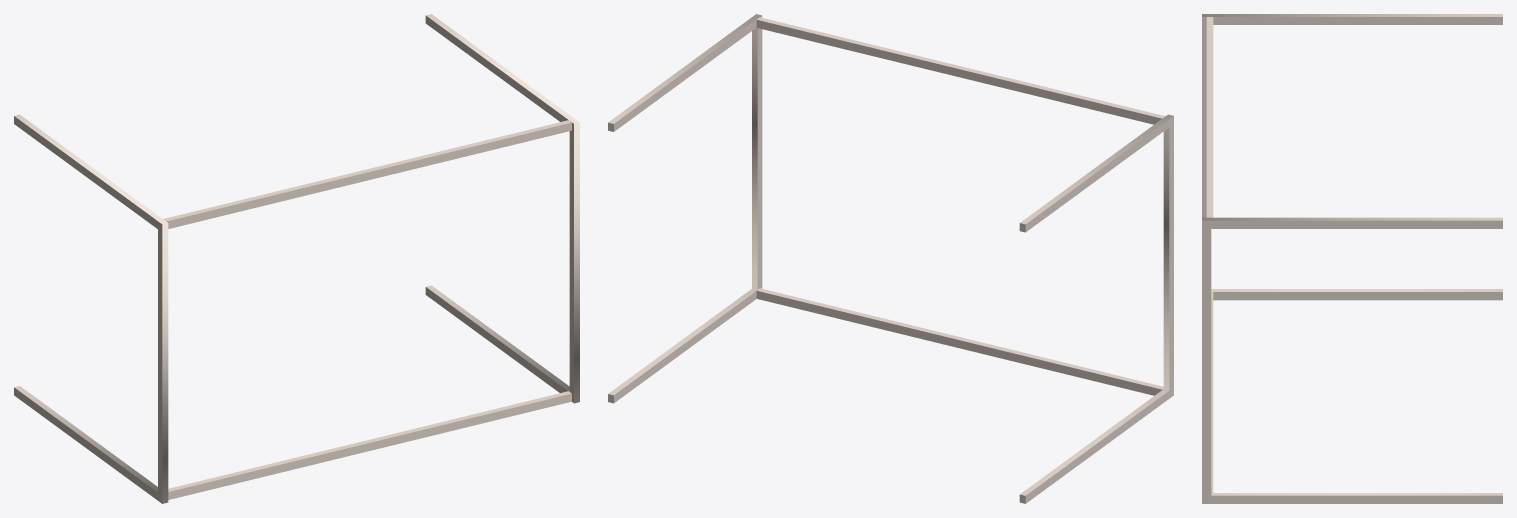
File: MeshRobothorDiningTableMella_0_GeomSubset_1.obj
3 views of the same model, side by side, from view 1: azimuth 30°, elevation 25°; view 2: azimuth 150°, elevation 25°; view 3: azimuth 270°, elevation 25° (orthographic).
Parts seen in each view (by area): view 1: MeshRobothorDiningTableMella_0_GeomSubset_1; view 2: MeshRobothorDiningTableMella_0_GeomSubset_1; view 3: MeshRobothorDiningTableMella_0_GeomSubset_1.
Part boxes in pixels (<box>): MeshRobothorDiningTableMella_0_GeomSubset_1: <box>14,14,579,503</box>; MeshRobothorDiningTableMella_0_GeomSubset_1: <box>608,14,1173,503</box>; MeshRobothorDiningTableMella_0_GeomSubset_1: <box>1202,14,1502,503</box>.
Bounding box in the file's own units: 1.13 × 0.7201 × 0.6927.
